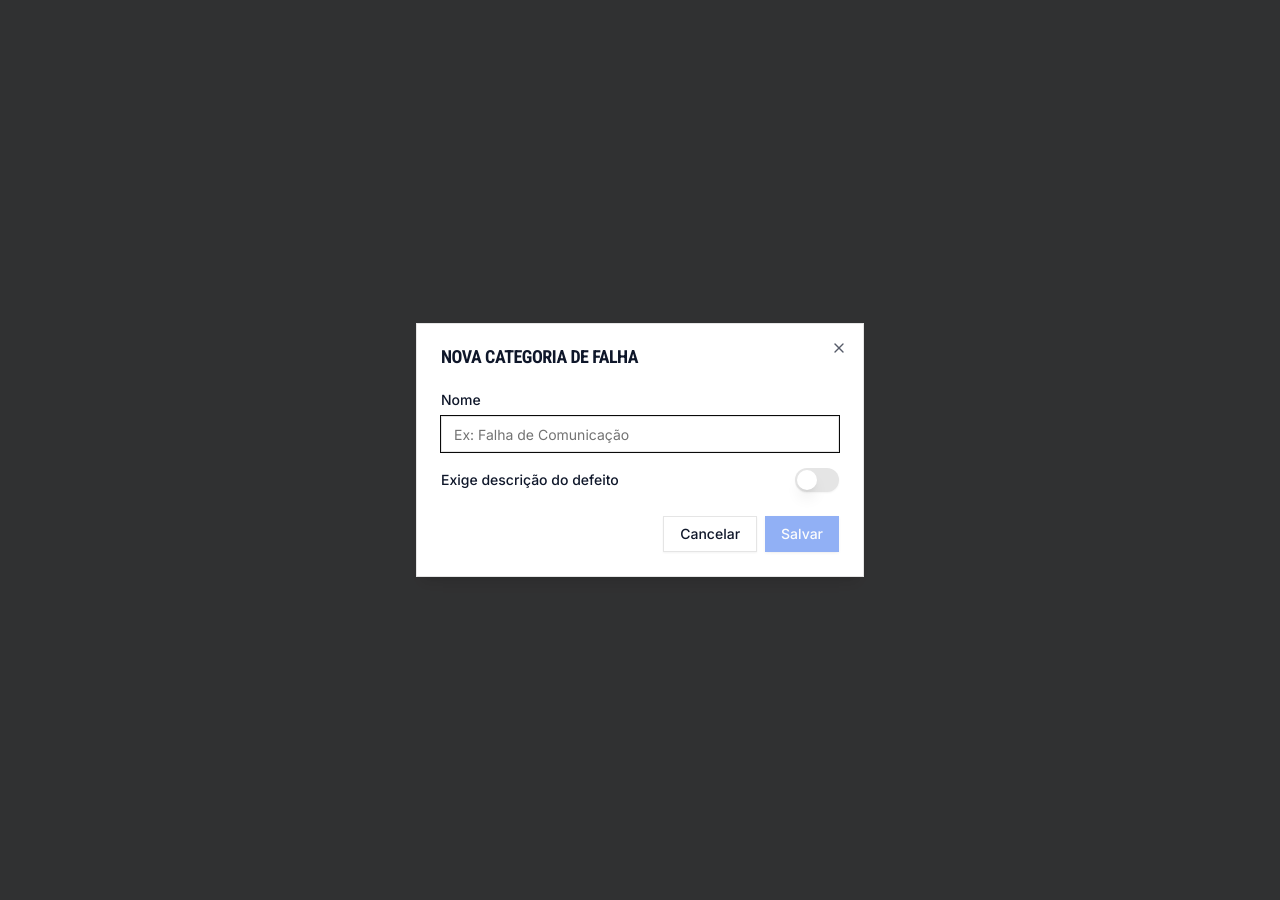
Test case: CategoriaFalhaModal › modo criar › preencher nome habilita o botão Salvar
In the field labelled "Nome": (640, 434) [441,416,839,452], type "Falha Elétrica"
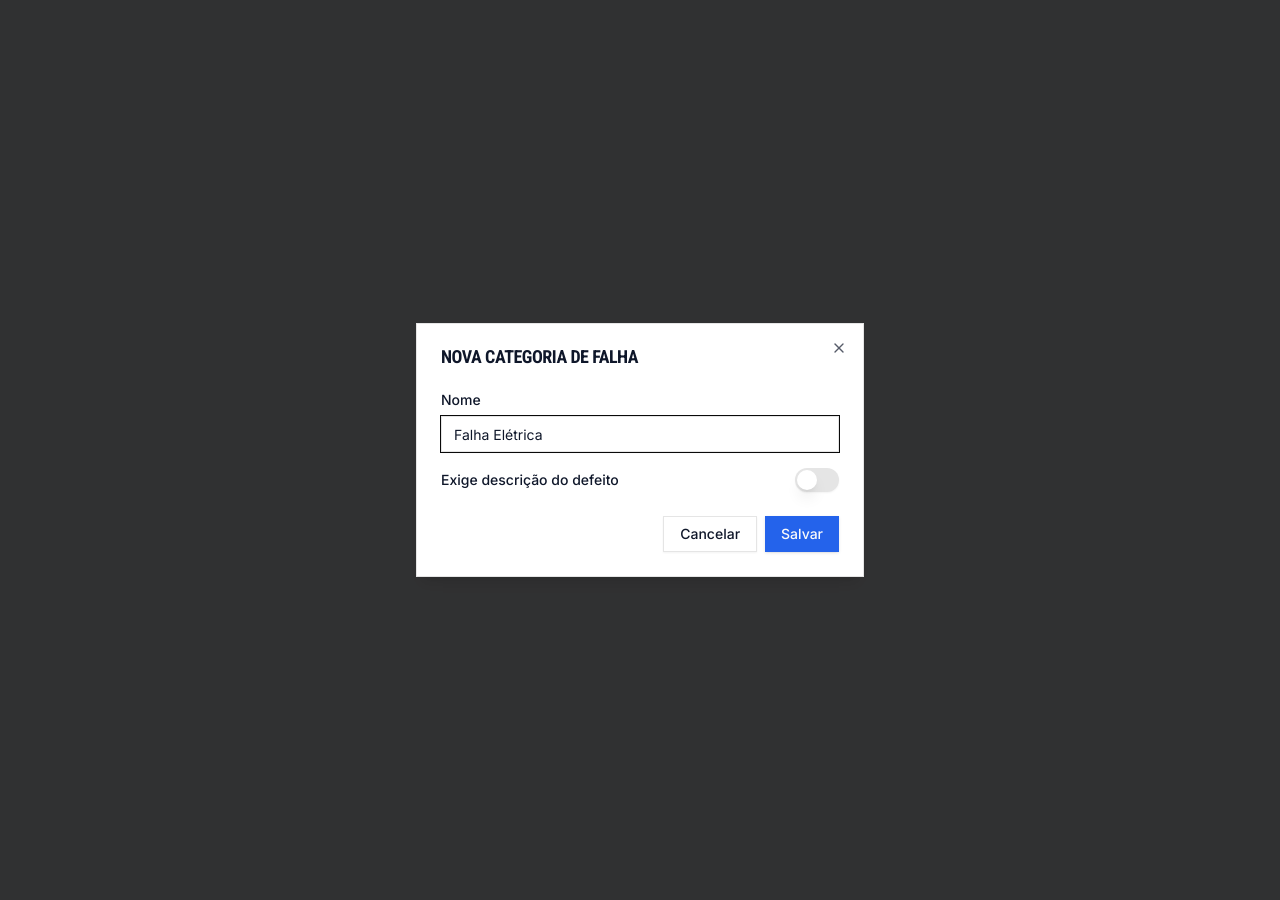
Now the button "Salvar" is enabled, box [765,516,839,552]
